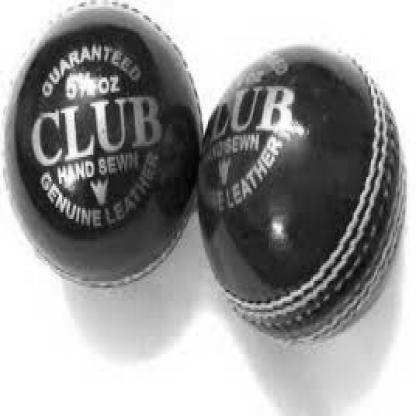bukan telur: (201, 43, 410, 348), (0, 3, 198, 292)
